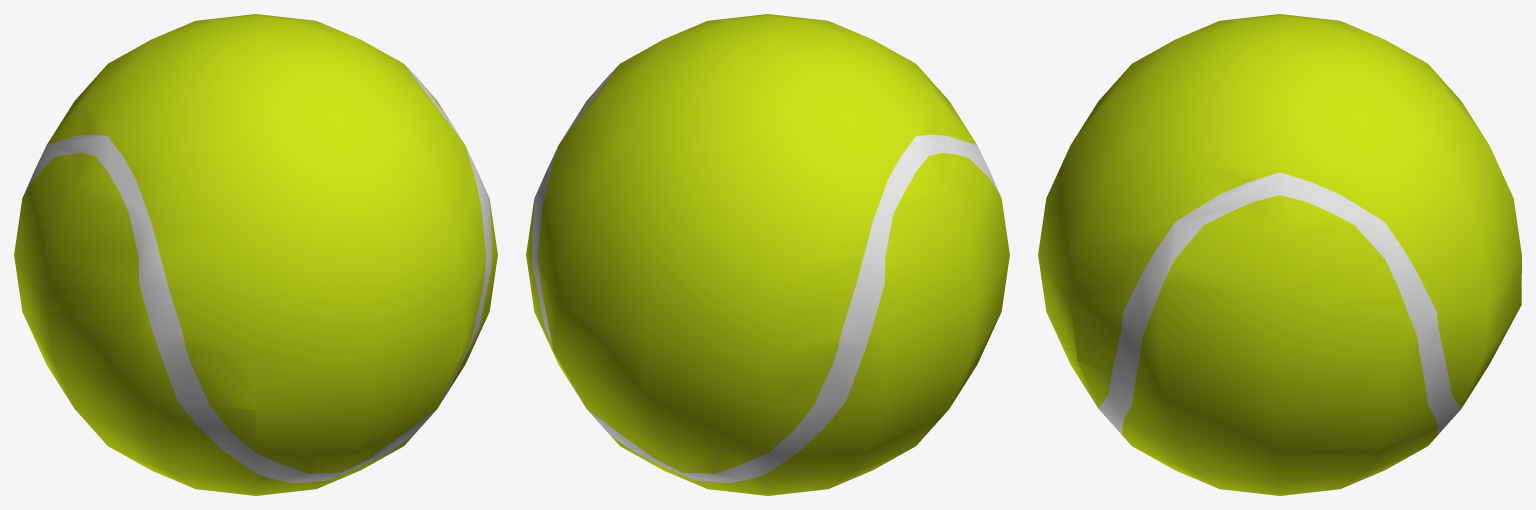
Rendered from TennisBall.fbx.
The picture shows the model from 3 angles, left to right: view 1: azimuth 30°, elevation 25°; view 2: azimuth 150°, elevation 25°; view 3: azimuth 270°, elevation 25°; orthographic projection.
Parts seen in each view (by area): view 1: Sphere; view 2: Sphere; view 3: Sphere.
Boxes of the visible parts, <box> form: Sphere: <box>14,14,497,495</box>; Sphere: <box>526,14,1009,495</box>; Sphere: <box>1038,14,1521,495</box>.
Bounding box in the file's own units: 200 × 200 × 200.
